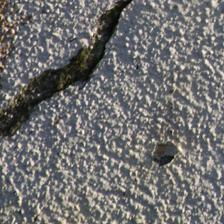Crack: (2, 1, 126, 139)
